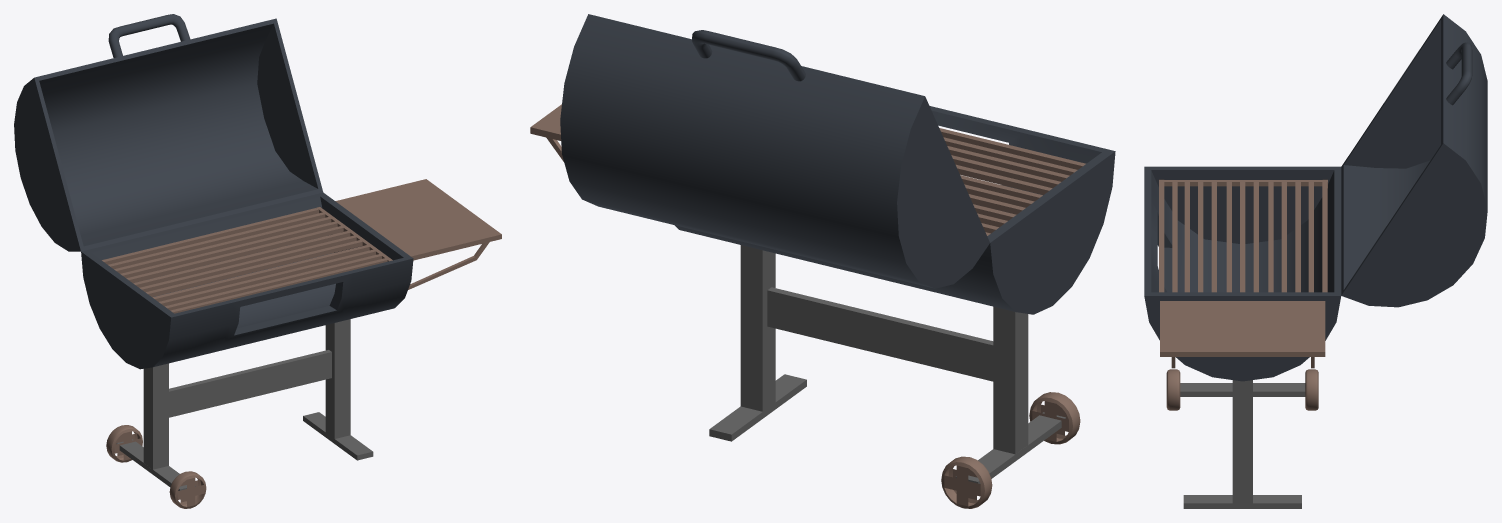
The model's file is Parilla_Facha.fbx.
The picture shows the model from 3 angles, left to right: view 1: azimuth 30°, elevation 25°; view 2: azimuth 150°, elevation 25°; view 3: azimuth 270°, elevation 25°; orthographic projection. The views are drawn at different scales.
Parts seen in each view (by area): view 1: pCylinder3, pCylinder1, pCube25, pCube31, pCube5, pCylinder6; view 2: pCylinder3, pCube31, pCylinder1, pCube25, pCylinder6, pCube5; view 3: pCylinder3, pCylinder1, pCube25, pCube5, pCube31, pCylinder6.
Boxes of the visible parts, left/top/right/bottom form: pCylinder3: left=14, top=14, right=323, bottom=251; pCylinder1: left=81, top=192, right=413, bottom=369; pCube25: left=102, top=207, right=392, bottom=313; pCube31: left=116, top=319, right=373, bottom=490; pCube5: left=335, top=179, right=501, bottom=289; pCylinder6: left=106, top=425, right=206, bottom=508; pCylinder3: left=560, top=14, right=989, bottom=288; pCube31: left=709, top=245, right=1065, bottom=483; pCylinder1: left=675, top=106, right=1115, bottom=314; pCube25: left=939, top=128, right=1085, bottom=235; pCylinder6: left=941, top=392, right=1080, bottom=508; pCube5: left=530, top=104, right=563, bottom=161; pCylinder3: left=1341, top=14, right=1487, bottom=307; pCylinder1: left=1144, top=166, right=1341, bottom=381; pCube25: left=1159, top=179, right=1327, bottom=292; pCube5: left=1160, top=301, right=1325, bottom=368; pCube31: left=1180, top=380, right=1305, bottom=508; pCylinder6: left=1166, top=369, right=1318, bottom=410.
Size of the model in its own units: 10.18 by 10.53 by 8.2.
